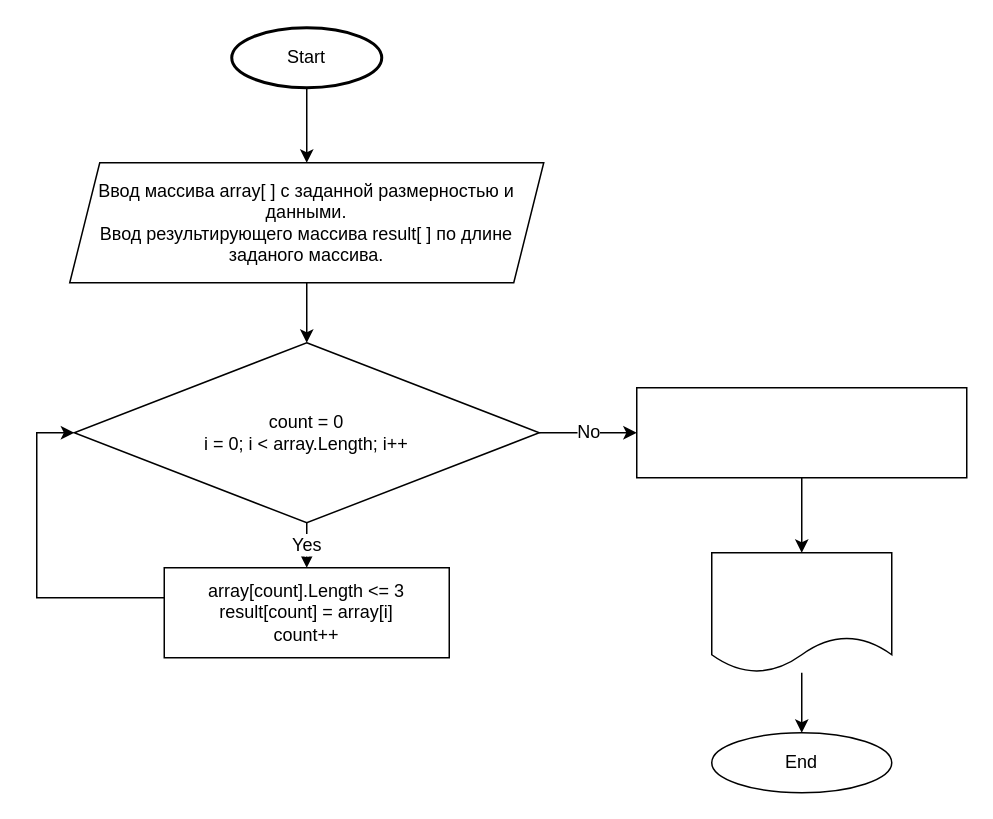
Some shapes in this 993 by 819 pixel diagram are drawn without their labels. The centre of each missing label's shape, as x and y in pixels:
"resultFinal = result IsNollOrEmpty" belongs at [801,432].
"resultFinal на печать" belongs at [801,612].
